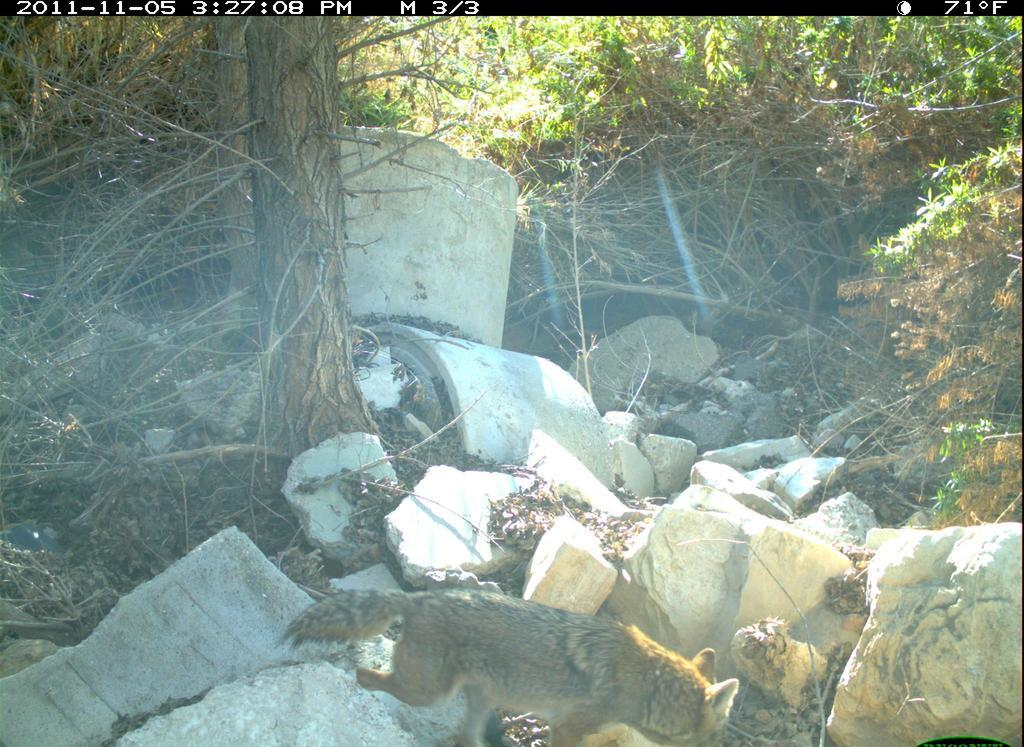coyote: (276, 580, 739, 747)
